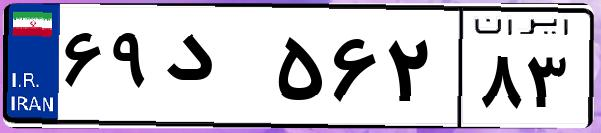2: (385, 28, 445, 110)
3: (525, 38, 570, 115)
5: (270, 28, 330, 110)
6: (330, 28, 385, 110), (57, 26, 110, 100)
8: (475, 38, 525, 113)
9: (110, 28, 158, 98)
د: (158, 20, 270, 120)
